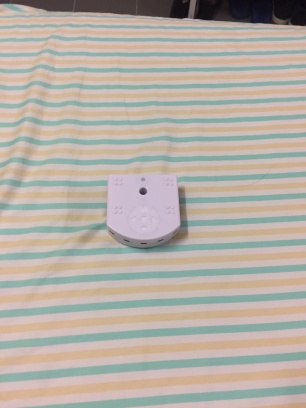thymio: (101, 166, 186, 253)
